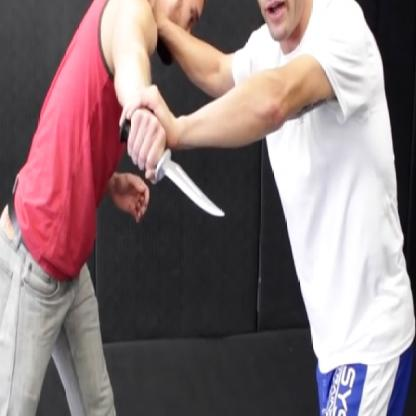knife: (114, 101, 229, 228)
